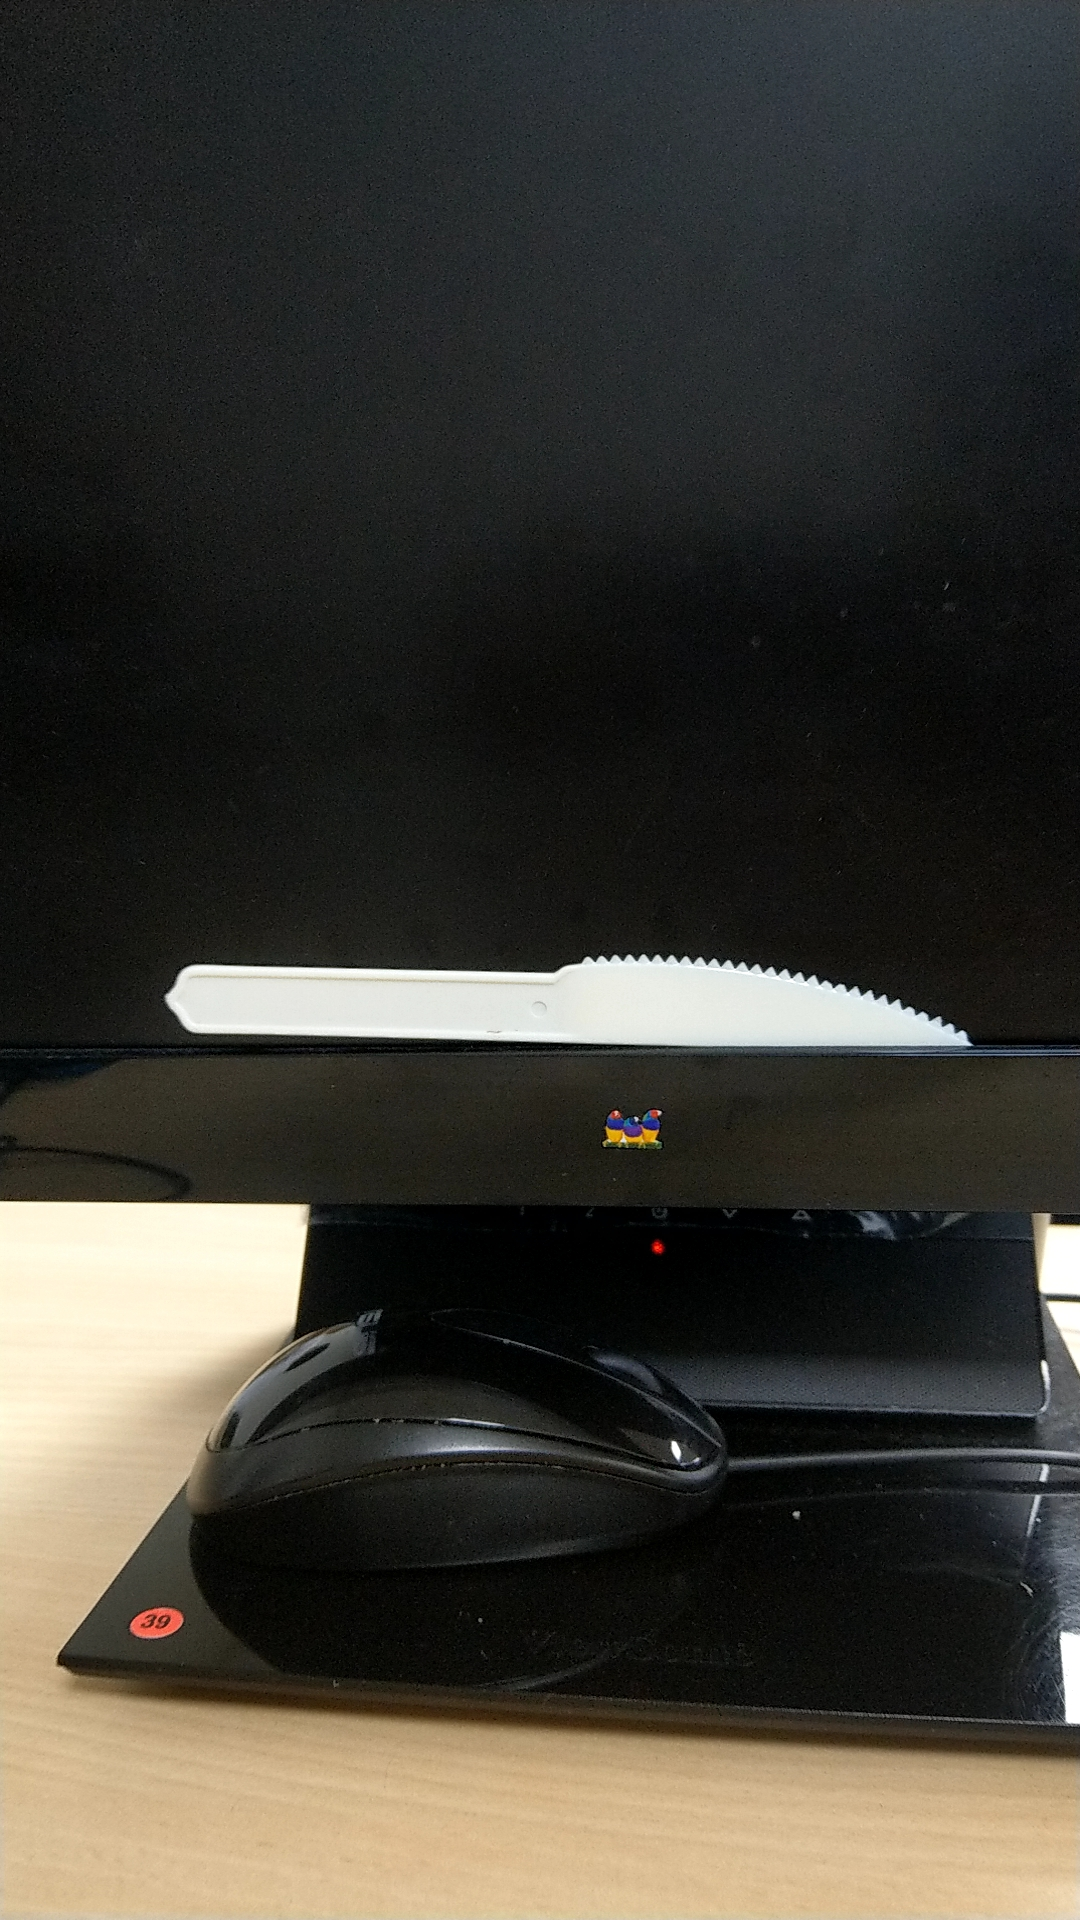knife: (141, 928, 992, 1072)
